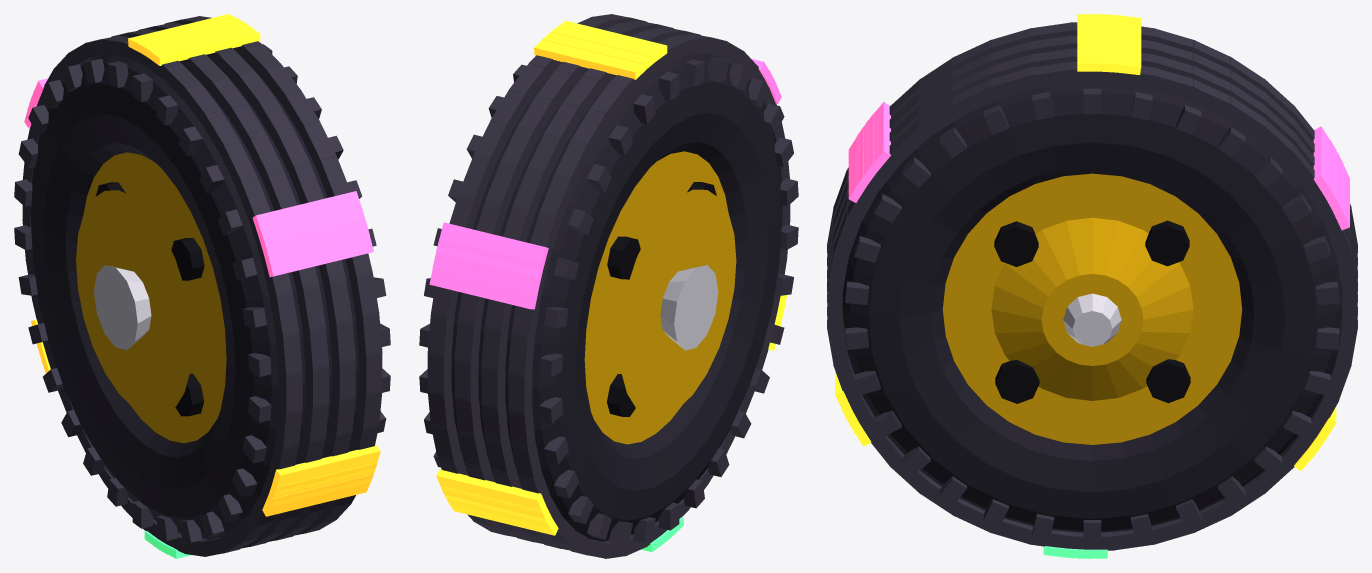
File: tyre-keke.glb
The picture shows the model from 3 angles, left to right: view 1: azimuth 30°, elevation 25°; view 2: azimuth 150°, elevation 25°; view 3: azimuth 270°, elevation 25°; orthographic projection.
Visible parts, largest first — view 1: tyre; view 2: tyre; view 3: tyre.
Part boxes in pixels (box(x1,y1,x2,y2)): tyre: box(14, 14, 390, 558); tyre: box(419, 14, 798, 558); tyre: box(827, 14, 1357, 558).
Size of the model in its own units: 0.182 by 0.4947 by 0.4803.
